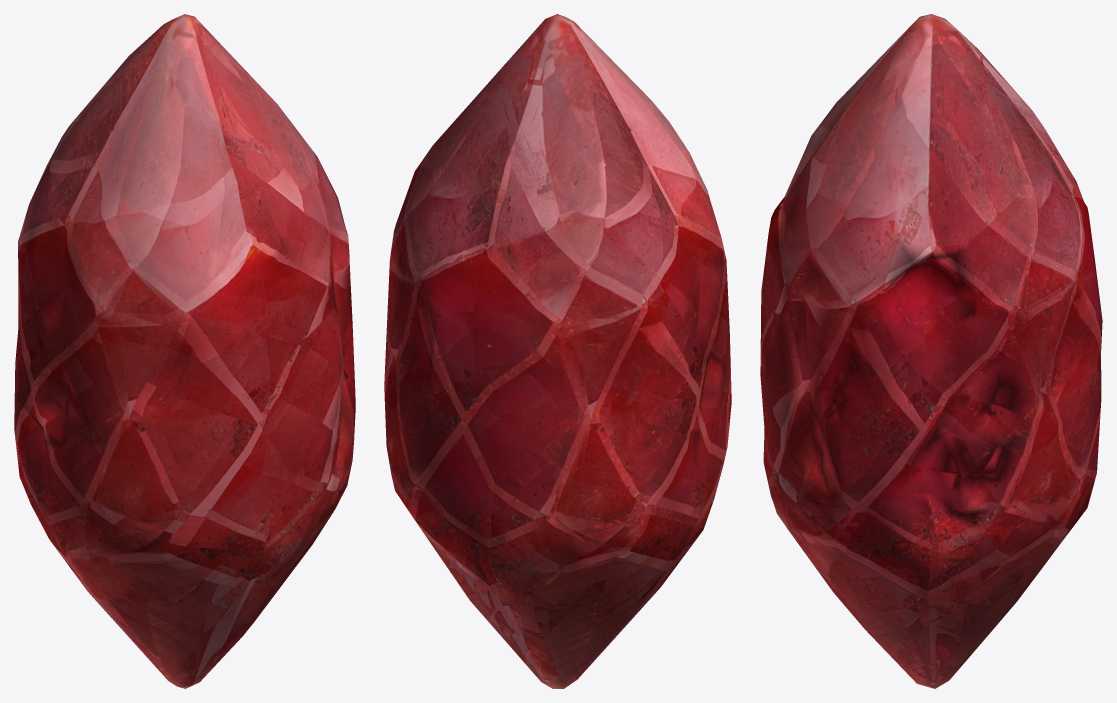
File: red_crystal_Gemston_0817034629_refine.fbx
3 renders of one model, left to right at view 1: azimuth 30°, elevation 25°; view 2: azimuth 150°, elevation 25°; view 3: azimuth 270°, elevation 25°, orthographic.
Parts seen in each view (by area): view 1: Mesh_0; view 2: Mesh_0; view 3: Mesh_0.
Boxes of the visible parts, box(x1,y1,x2,y2) form: Mesh_0: box(14, 14, 355, 688); Mesh_0: box(384, 14, 731, 688); Mesh_0: box(760, 14, 1102, 688).
Size of the model in its own units: 54.9 by 120 by 55.3.
Materials: 1 (1 with a texture image).
